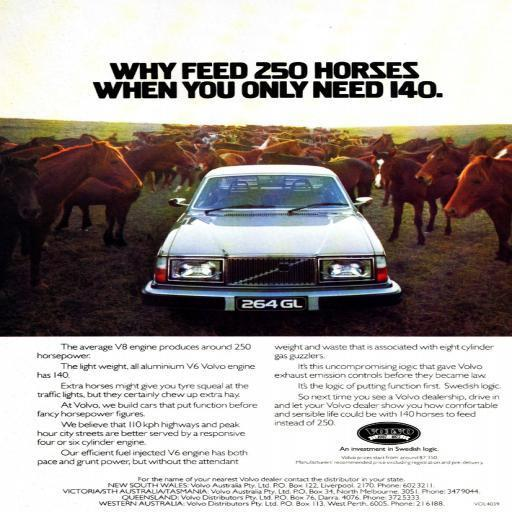horse: (0, 124, 512, 294)
